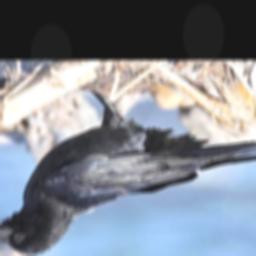Crow: (0, 83, 256, 255)
